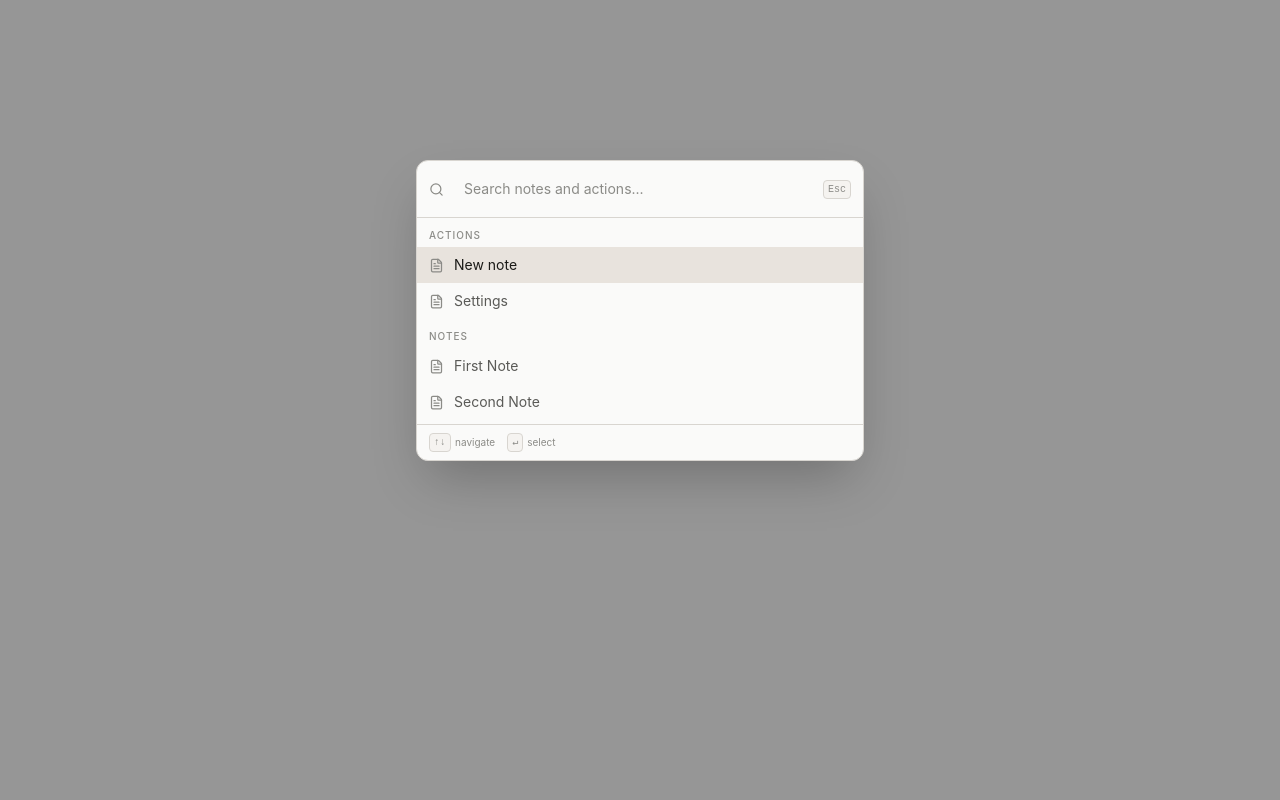
Test case: CommandPalette › shows create option as fallback when nothing else matches
Type "xyznonexistent" into the dropdown with placeholder "Search notes and actions..." at x=634, y=189, box [452, 171, 815, 207]
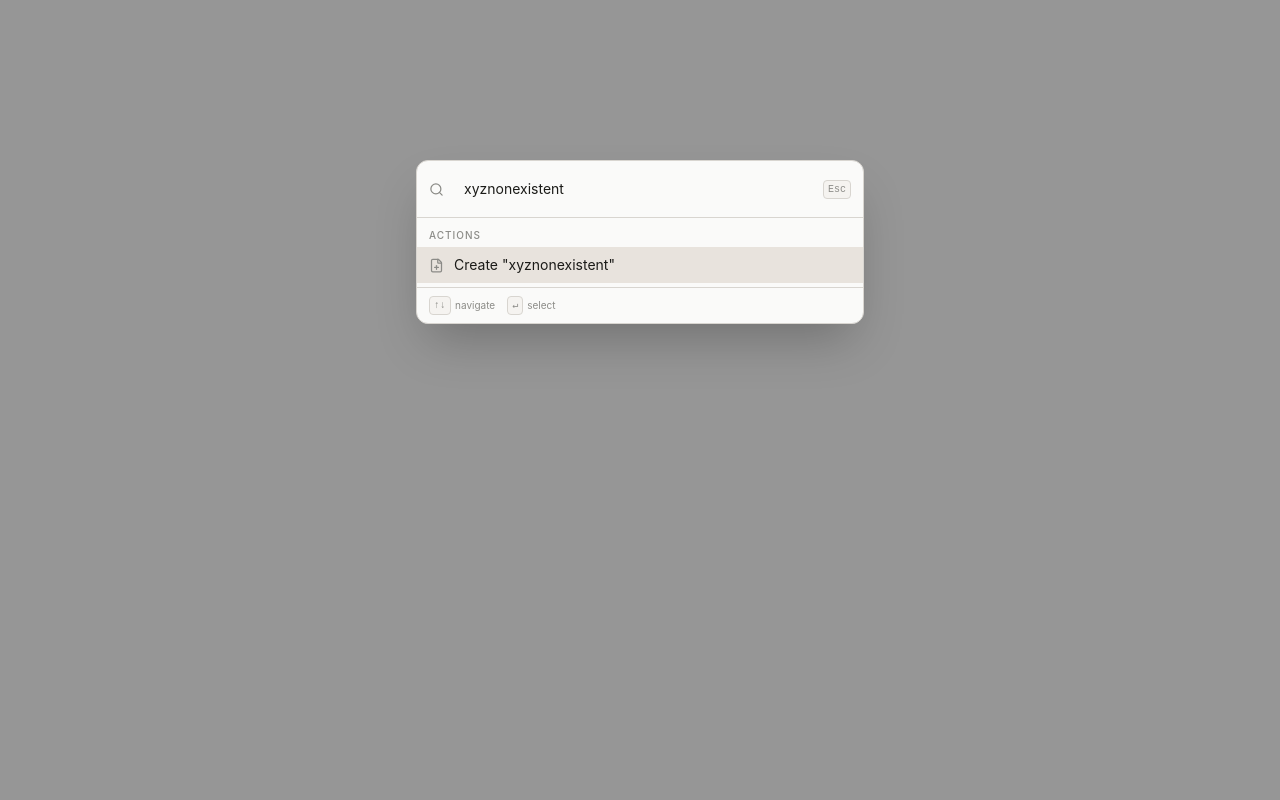
Expected: the option "Create \"xyznonexistent\"" is shown, [417, 247, 863, 283]
